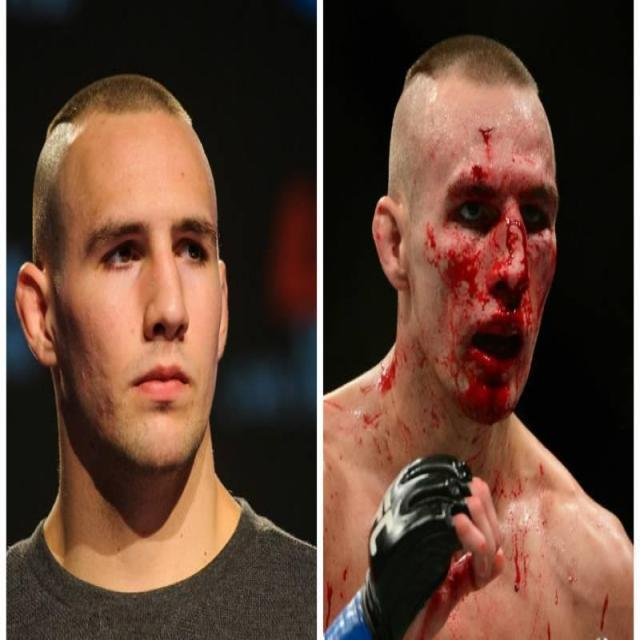flood: (418, 151, 560, 448)
